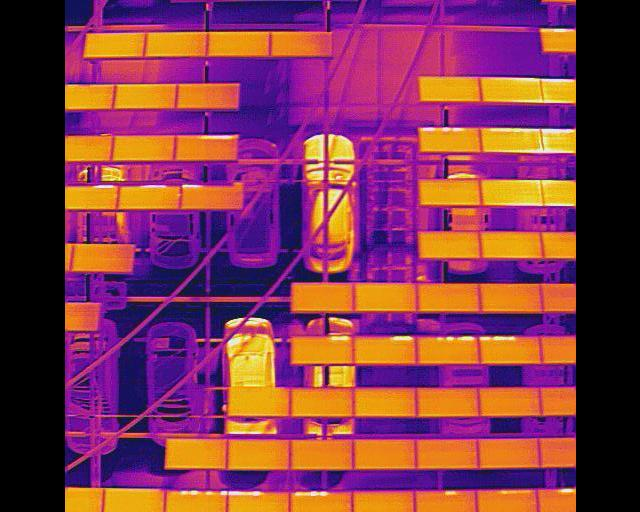Cell-Multi: (351, 337, 416, 365), (416, 336, 479, 364), (419, 127, 484, 153), (163, 491, 226, 512)
No-Anomaly: (414, 283, 480, 313), (477, 231, 545, 260), (477, 438, 540, 469), (351, 284, 418, 313), (414, 440, 477, 470), (353, 440, 416, 470), (226, 440, 289, 470), (164, 439, 227, 469), (288, 388, 353, 417), (415, 232, 484, 259), (290, 441, 352, 471), (352, 388, 416, 417), (479, 284, 543, 312), (416, 179, 482, 206), (227, 388, 288, 417), (415, 389, 480, 416), (476, 389, 540, 416), (70, 245, 134, 272), (113, 135, 176, 162), (289, 285, 353, 311), (143, 32, 207, 58), (175, 84, 238, 110), (417, 76, 482, 101), (112, 85, 177, 110), (83, 34, 147, 59), (206, 33, 270, 57), (270, 32, 331, 57), (101, 490, 164, 512), (475, 490, 536, 512), (351, 491, 414, 512)
Unclassified: (478, 179, 545, 207), (290, 336, 353, 365), (476, 336, 541, 364), (174, 135, 238, 162), (477, 127, 545, 152), (179, 184, 242, 210), (116, 185, 178, 211), (480, 79, 543, 104), (413, 491, 478, 512), (289, 492, 354, 512), (65, 186, 116, 211), (226, 492, 289, 512)
